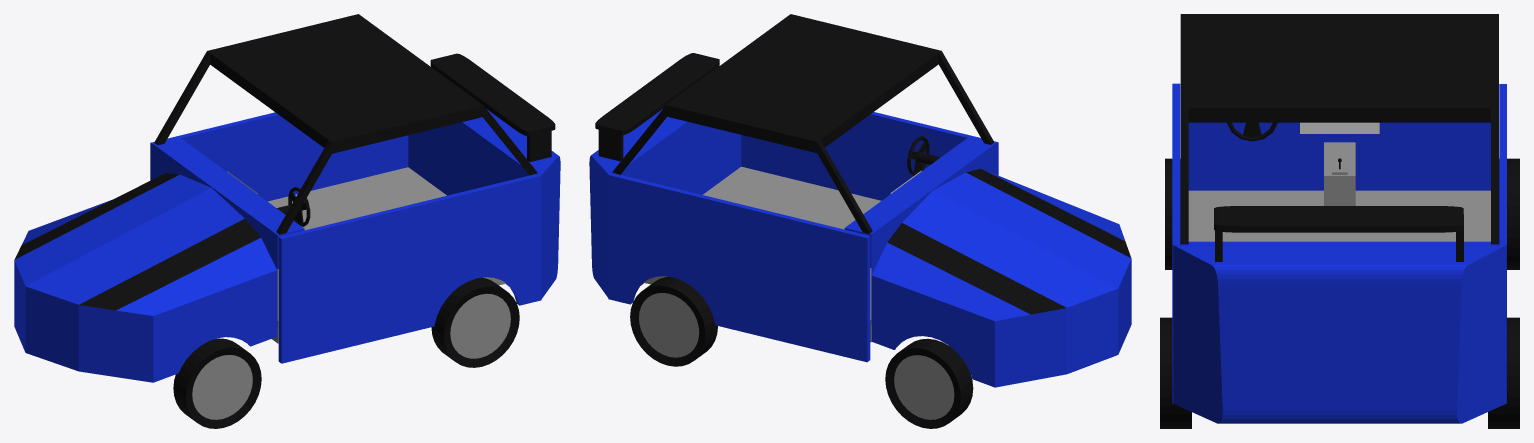
File: car_model.fbx
3 views of the same model, side by side, from view 1: azimuth 30°, elevation 25°; view 2: azimuth 150°, elevation 25°; view 3: azimuth 270°, elevation 25° (orthographic). The views are drawn at different scales.
Parts seen in each view (by area): view 1: Hood, Left, Frame, Right, WheelFrontL, Back, WheelRearL, Bed, Dashboard, Spoiler, BackExtension, Cube.001; view 2: Hood, Right, Frame, Left, WheelFrontR, Back, WheelRearR, Bed, Dashboard, Spoiler, BackExtension, Cube.003; view 3: BackExtension, Frame, Dashboard, Bed, Spoiler, SideSeparator, WheelRearR, WheelRearL, Left, WheelFrontR, Back, Right (+3 smaller).
Boxes of the visible parts, left/top/right/bottom form: Hood: left=14, top=173, right=277, bottom=382; Left: left=278, top=173, right=541, bottom=363; Frame: left=154, top=14, right=537, bottom=234; Right: left=150, top=112, right=408, bottom=201; WheelFrontL: left=173, top=338, right=261, bottom=428; Back: left=408, top=121, right=538, bottom=195; WheelRearL: left=431, top=277, right=519, bottom=367; Bed: left=268, top=167, right=508, bottom=343; Dashboard: left=152, top=137, right=304, bottom=325; Spoiler: left=430, top=53, right=555, bottom=136; BackExtension: left=468, top=109, right=560, bottom=298; Cube.001: left=527, top=131, right=551, bottom=161; Hood: left=871, top=168, right=1131, bottom=387; Right: left=608, top=172, right=870, bottom=362; Frame: left=612, top=14, right=993, bottom=233; Left: left=741, top=112, right=998, bottom=200; WheelFrontR: left=885, top=338, right=973, bottom=428; Back: left=611, top=120, right=741, bottom=194; WheelRearR: left=630, top=276, right=717, bottom=366; Bed: left=641, top=166, right=881, bottom=342; Dashboard: left=844, top=136, right=995, bottom=324; Spoiler: left=595, top=53, right=719, bottom=135; BackExtension: left=589, top=109, right=681, bottom=297; Cube.003: left=598, top=129, right=623, bottom=161; BackExtension: left=1173, top=245, right=1505, bottom=423; Frame: left=1180, top=14, right=1498, bottom=244; Dashboard: left=1188, top=122, right=1490, bottom=190; Bed: left=1188, top=190, right=1490, bottom=241; Spoiler: left=1214, top=206, right=1463, bottom=232; SideSeparator: left=1324, top=142, right=1355, bottom=205; WheelRearR: left=1488, top=317, right=1519, bottom=428; WheelRearL: left=1160, top=317, right=1191, bottom=428; Left: left=1172, top=83, right=1180, bottom=403; WheelFrontR: left=1499, top=158, right=1519, bottom=269; Back: left=1180, top=241, right=1498, bottom=245; Right: left=1499, top=84, right=1506, bottom=403.
Size of the model in its own units: 89.58 by 44.65 by 45.23.
